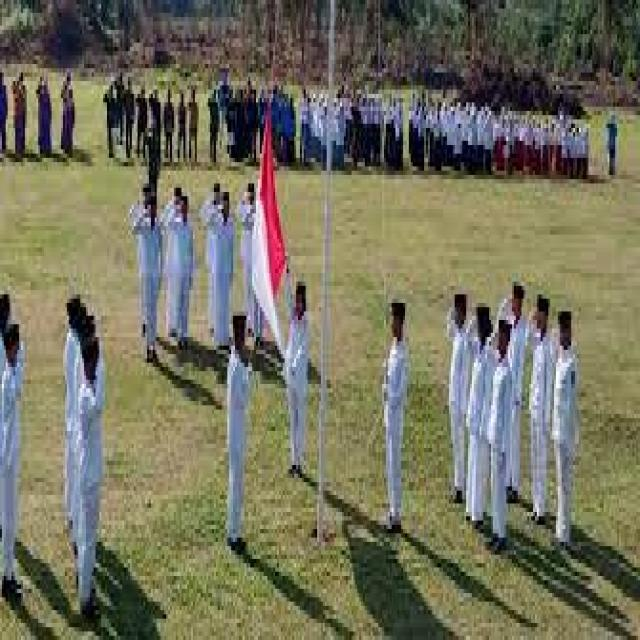peserta: (56, 274, 108, 617), (132, 161, 170, 384), (2, 285, 25, 613), (554, 306, 582, 562), (527, 298, 555, 550), (242, 173, 278, 367), (469, 294, 496, 550), (164, 156, 194, 375), (207, 156, 236, 372), (381, 286, 406, 525), (493, 311, 519, 539), (509, 277, 532, 507), (230, 303, 248, 587), (446, 292, 467, 533), (287, 264, 307, 515)
